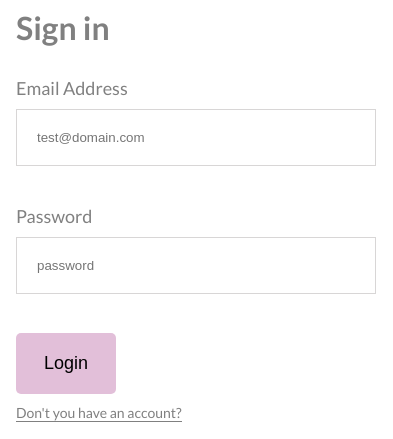
Test: not a valid email errors should be rendered when click
Type "johndoe" into the field with placeholder "test@domain.com". click: [196, 138]
box: [16, 109, 376, 166]
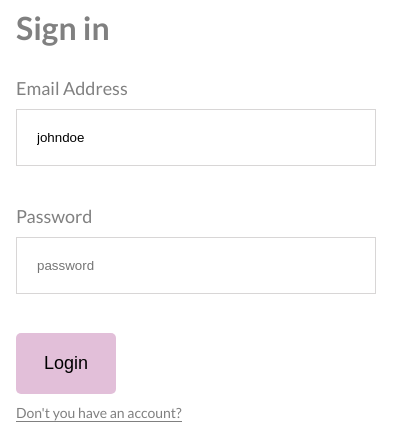
Click the button. click: [66, 364]
box: [16, 333, 116, 394]
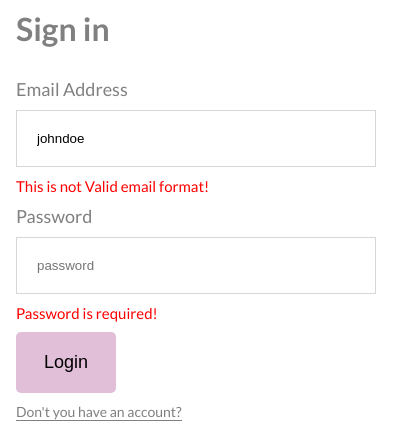
Now the text with test id "emailError" reads "This is not Valid email format!", box [16, 177, 209, 195]
